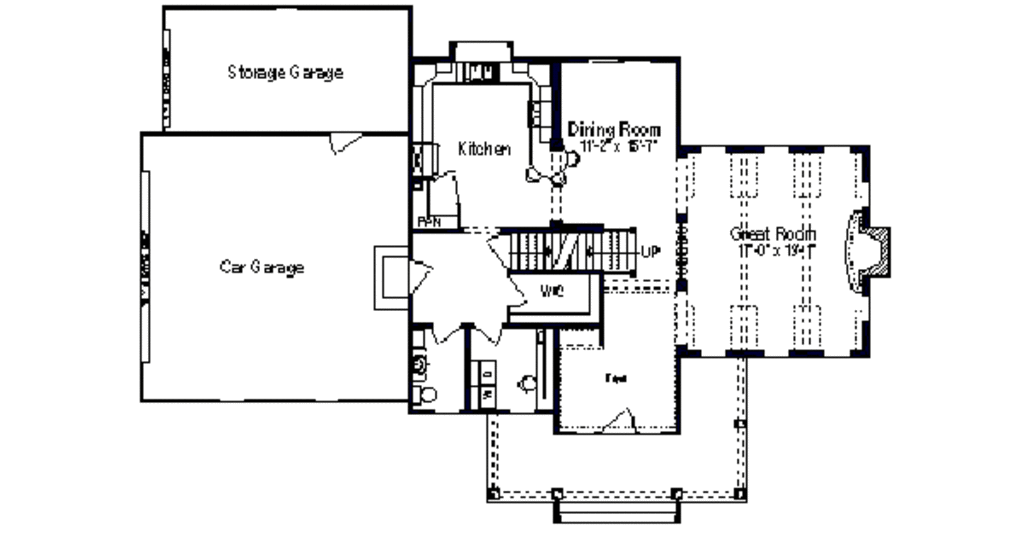door: (593, 403, 637, 434), (469, 318, 507, 347), (408, 256, 435, 295), (327, 131, 363, 155), (431, 323, 465, 344), (508, 275, 529, 308)
large_sink: (414, 384, 441, 407)
small_sink: (412, 347, 431, 385)
stairs: (503, 228, 641, 279), (554, 497, 679, 528)
